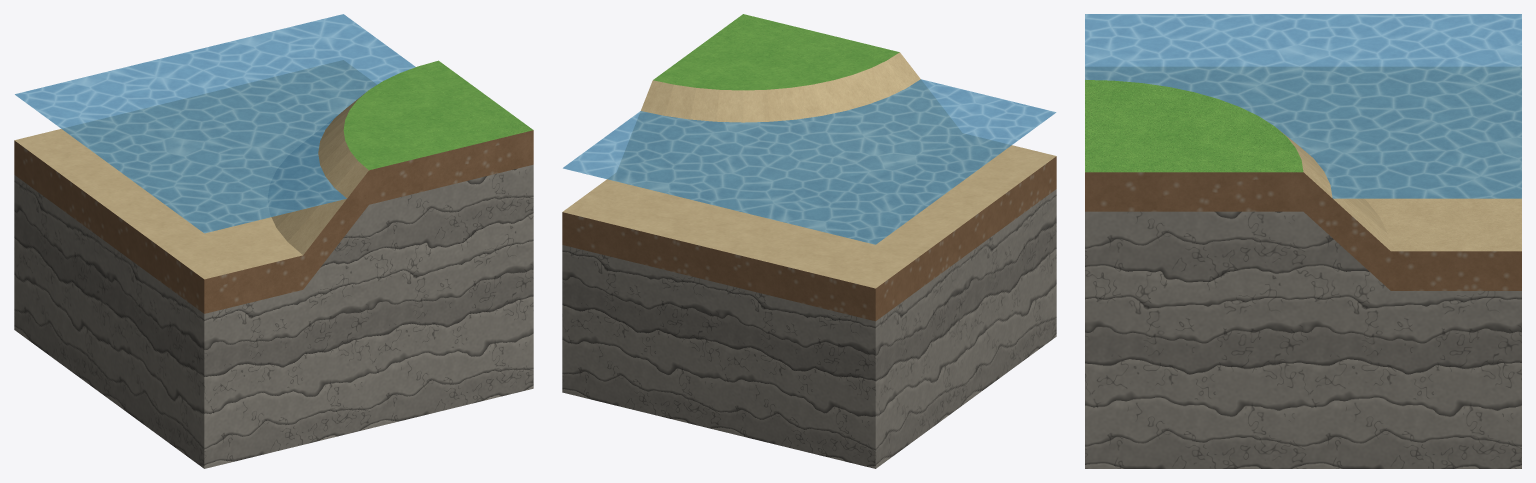
Rendered from Water_InnerCorner_U.fbx.
3 renders of one model, left to right at view 1: azimuth 30°, elevation 25°; view 2: azimuth 150°, elevation 25°; view 3: azimuth 270°, elevation 25°, orthographic. The views are drawn at different scales.
Visible parts, largest first — view 1: Water_InnerCorner_U, Water_InnerCorner_U_Water; view 2: Water_InnerCorner_U, Water_InnerCorner_U_Water; view 3: Water_InnerCorner_U, Water_InnerCorner_U_Water.
Boxes of the visible parts, bbox=[...] form: Water_InnerCorner_U: bbox=[14, 60, 533, 468]; Water_InnerCorner_U_Water: bbox=[15, 14, 415, 233]; Water_InnerCorner_U: bbox=[562, 14, 1056, 468]; Water_InnerCorner_U_Water: bbox=[563, 79, 1056, 244]; Water_InnerCorner_U: bbox=[1085, 67, 1521, 468]; Water_InnerCorner_U_Water: bbox=[1085, 14, 1521, 198].
Bounding box in the file's own units: 3 × 2.25 × 3.
Materials: 5 (5 with a texture image).
